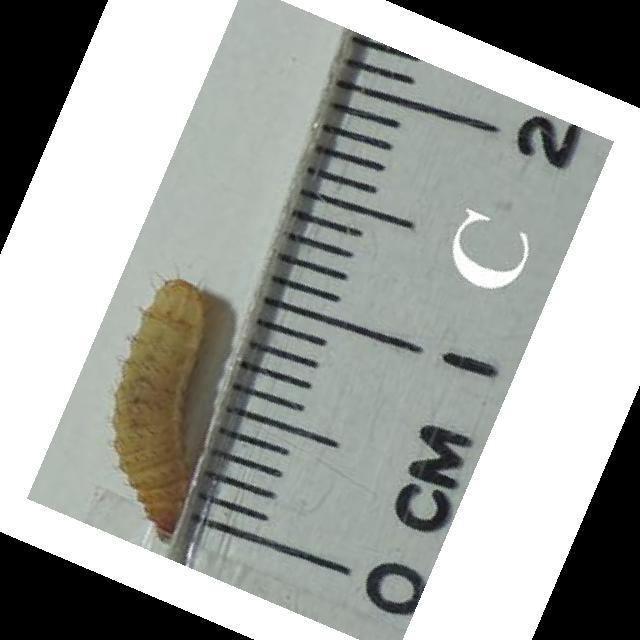Maggot: (110, 279, 210, 534)
